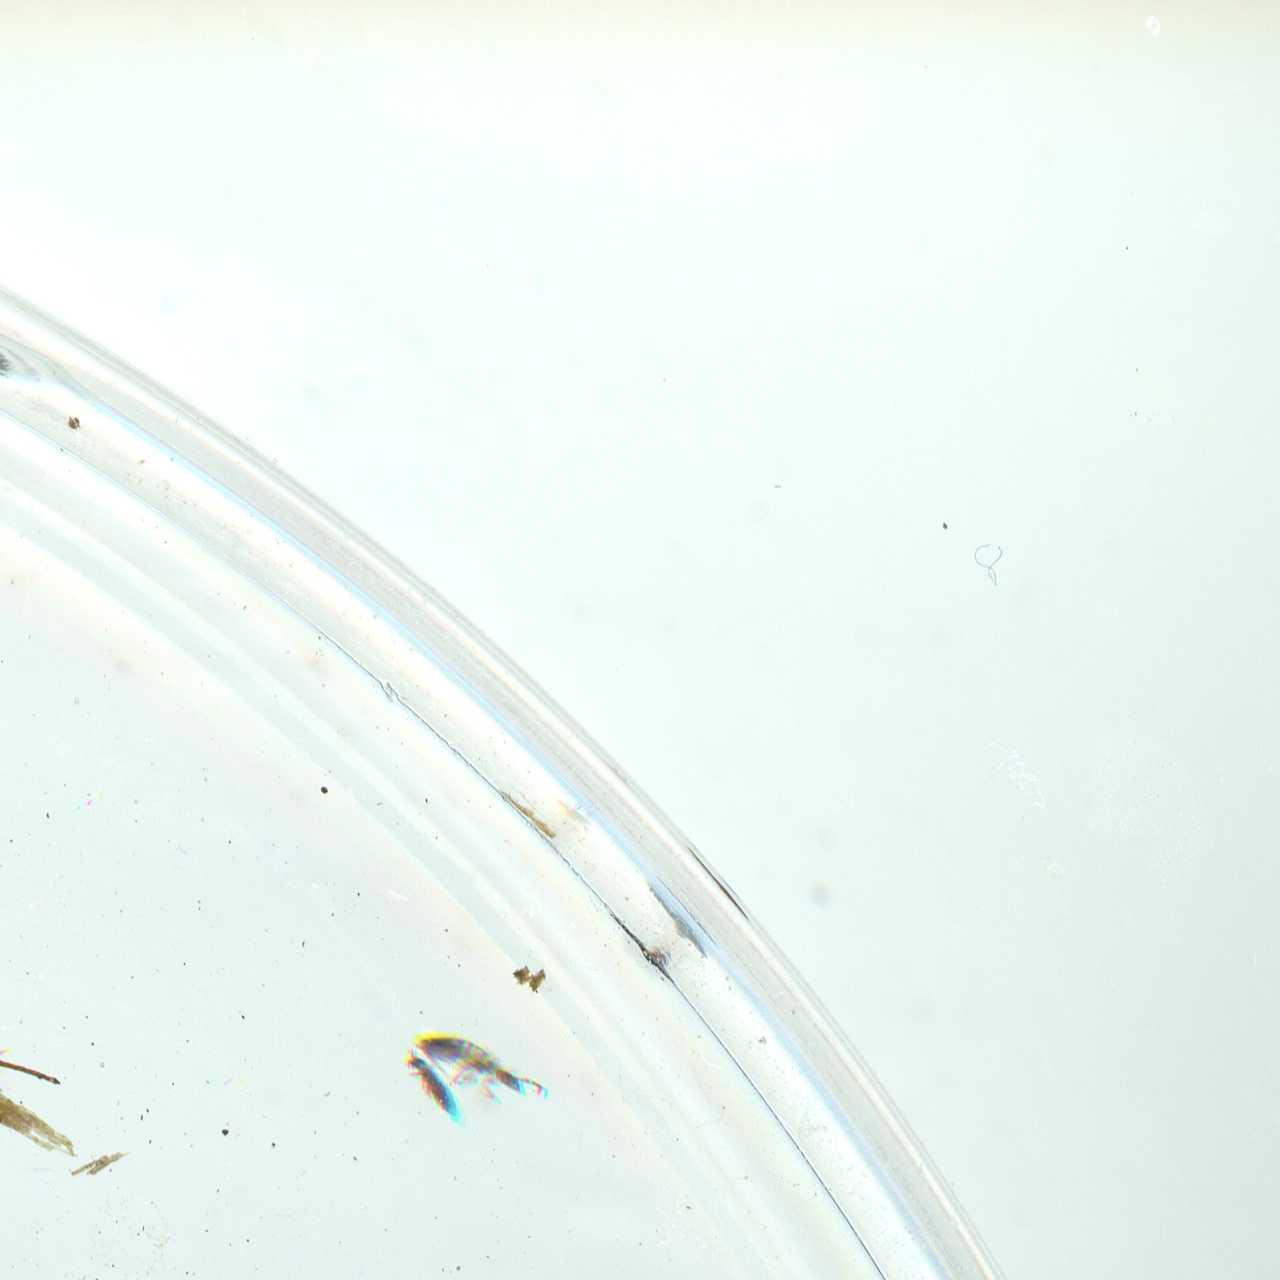arthropod: (400, 1013, 564, 1124), (391, 1039, 476, 1138)
